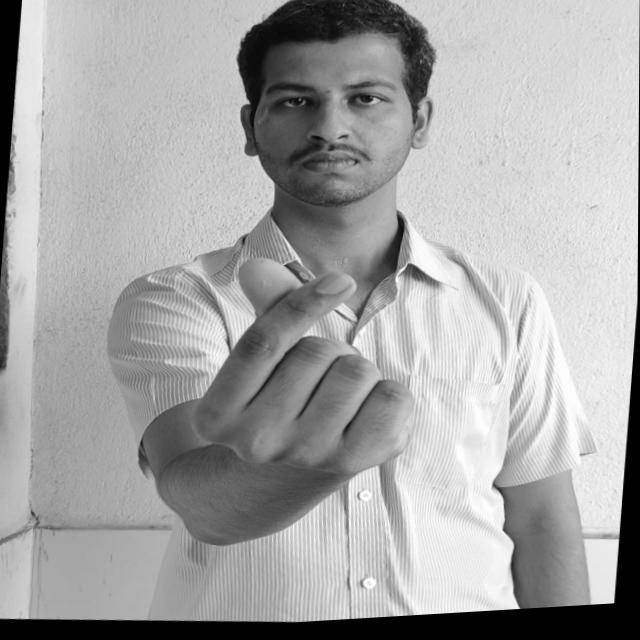Grattitude: (192, 249, 428, 487)
